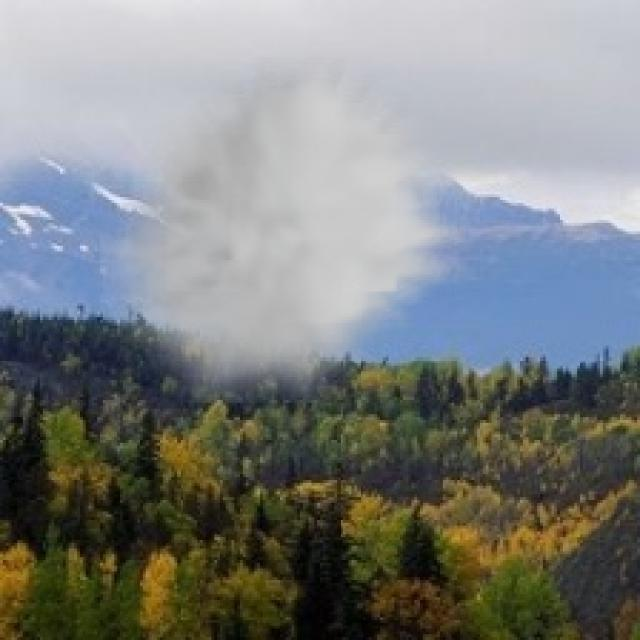Smoke: (100, 57, 466, 403)
